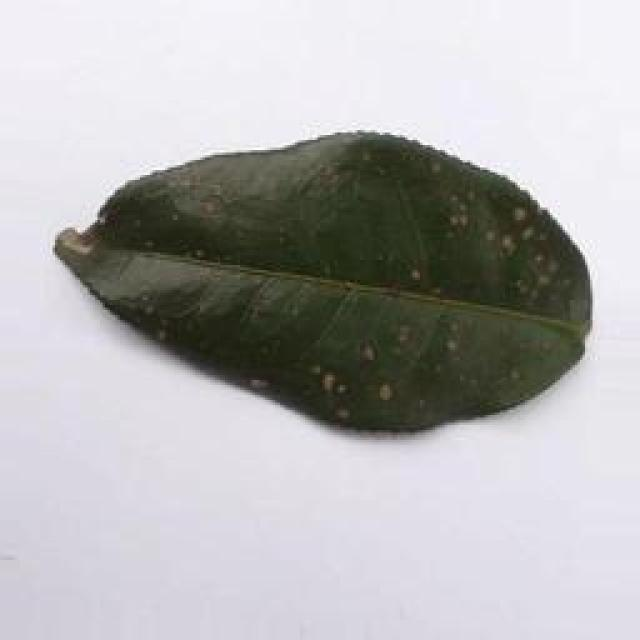Algal Leaf Spot: (47, 122, 633, 443)
